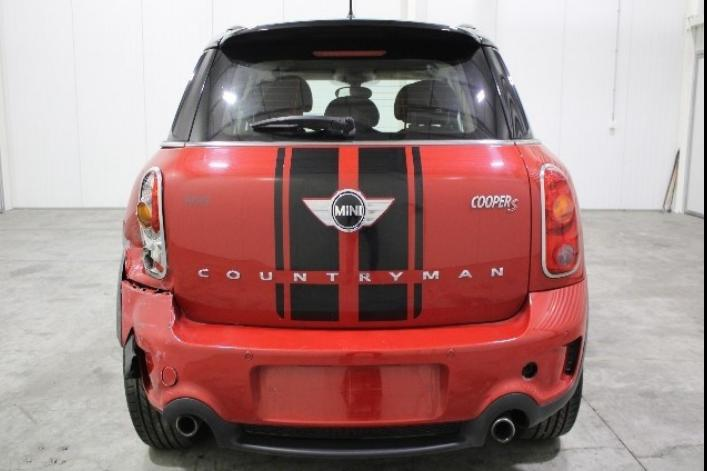Back-bumper: (119, 278, 589, 459)
Back-wheel: (124, 350, 193, 448), (525, 373, 583, 439)
Back-windshield: (189, 41, 509, 141)
Quarter-panel: (512, 140, 586, 295), (122, 147, 185, 292)
Roof: (204, 19, 497, 49)
Tail-light: (540, 163, 581, 278), (137, 167, 166, 280)
Trunk: (170, 141, 532, 329)
